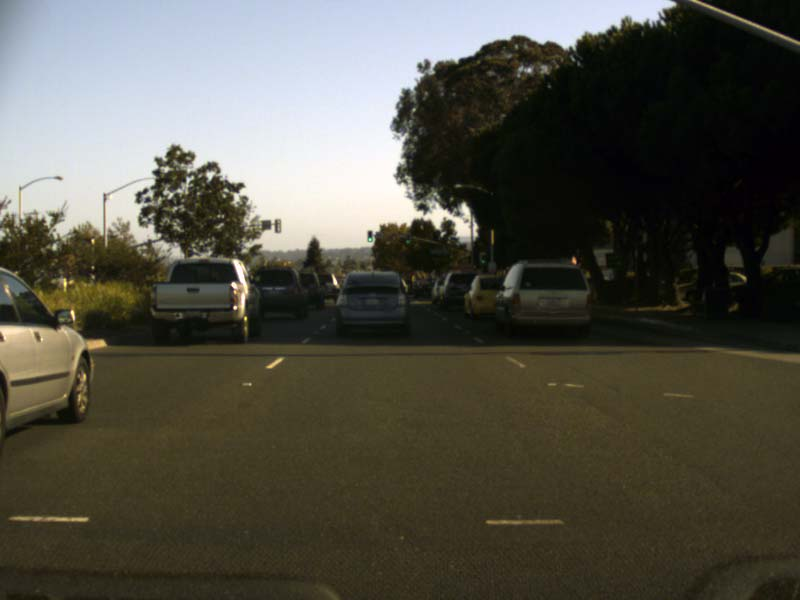Green: (480, 252, 486, 265), (366, 230, 372, 242), (405, 233, 409, 244)
